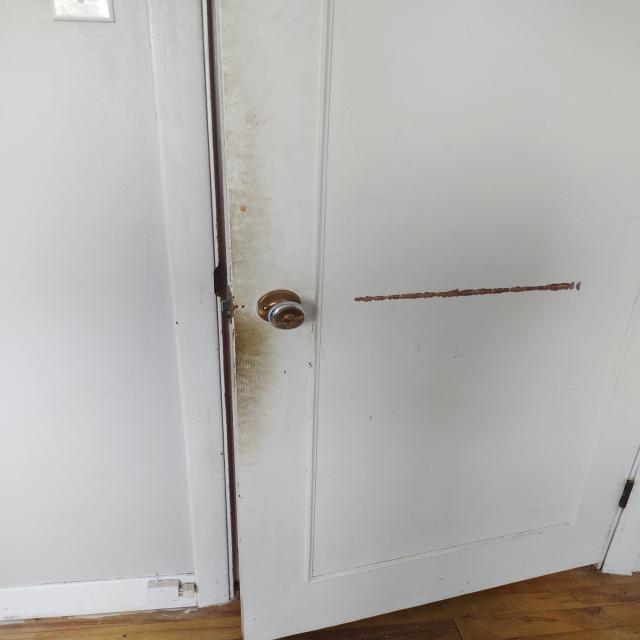door-knob: (257, 290, 306, 330)
